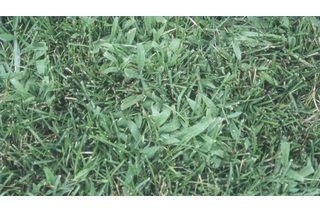crabgrass: (87, 38, 277, 178)
